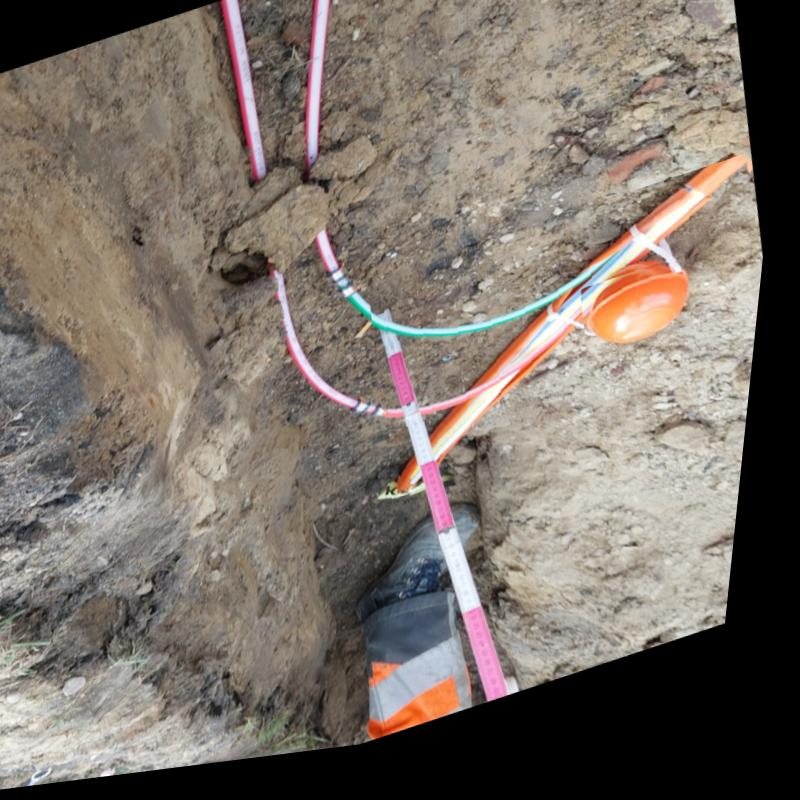Kugelmarker: (595, 284, 695, 359)
Orang-Speednetrohrchen: (403, 175, 754, 504)
